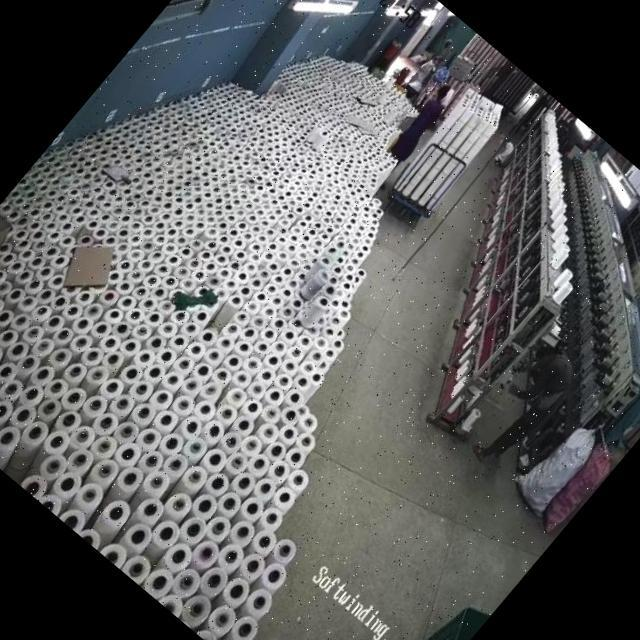person: (393, 84, 458, 156), (419, 37, 459, 80)
